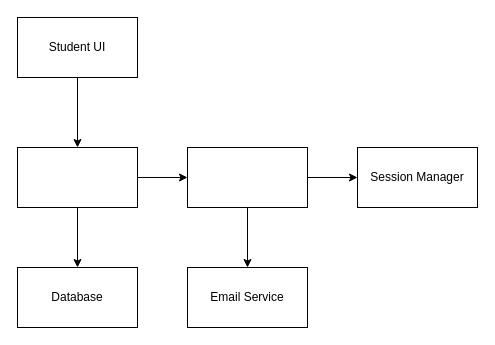
Some shapes in this 495 by 345 pixel diagram are drawn without their labels. Each missing label, with the centre of its shape:
API Layer: point (77, 177)
Auth Service: point (247, 177)
